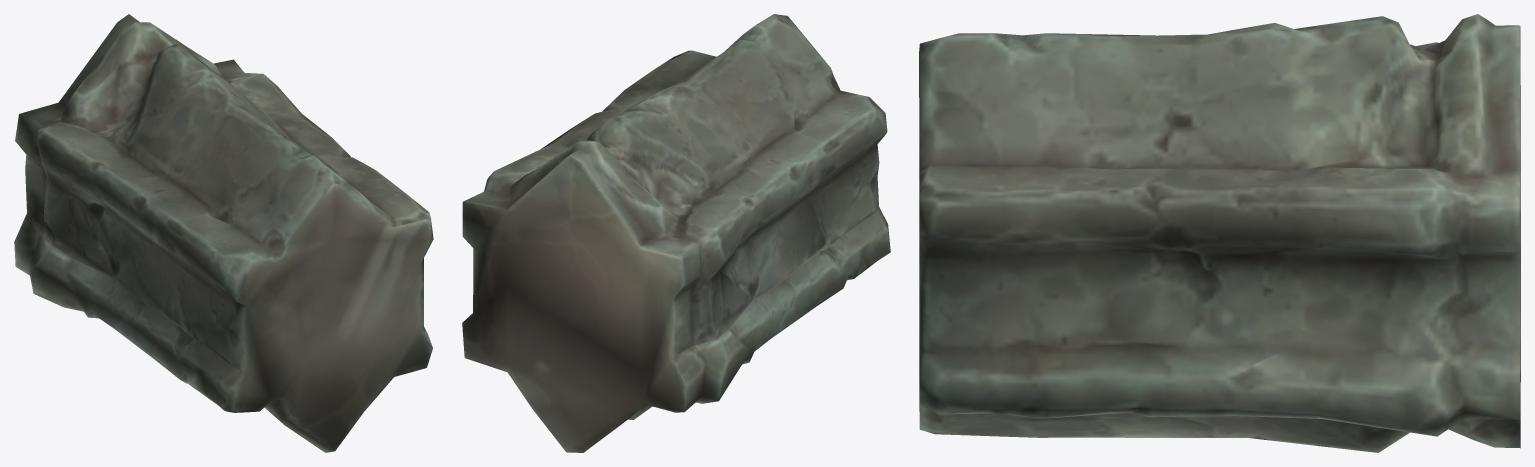
The model's file is Ruins_Pillar_5m_A.obj.
3 views of the same model, side by side, from view 1: azimuth 30°, elevation 25°; view 2: azimuth 150°, elevation 25°; view 3: azimuth 270°, elevation 25° (orthographic). The views are drawn at different scales.
Visible parts, largest first — view 1: Dn_HL_Ruins_Pillar_5m_A; view 2: Dn_HL_Ruins_Pillar_5m_A; view 3: Dn_HL_Ruins_Pillar_5m_A.
Boxes of the visible parts, x1,y1,x2,y2 form: Dn_HL_Ruins_Pillar_5m_A: (14, 14, 433, 452); Dn_HL_Ruins_Pillar_5m_A: (462, 14, 890, 452); Dn_HL_Ruins_Pillar_5m_A: (919, 14, 1520, 452).
Bounding box in the file's own units: 3.43 × 4.1 × 5.19.
